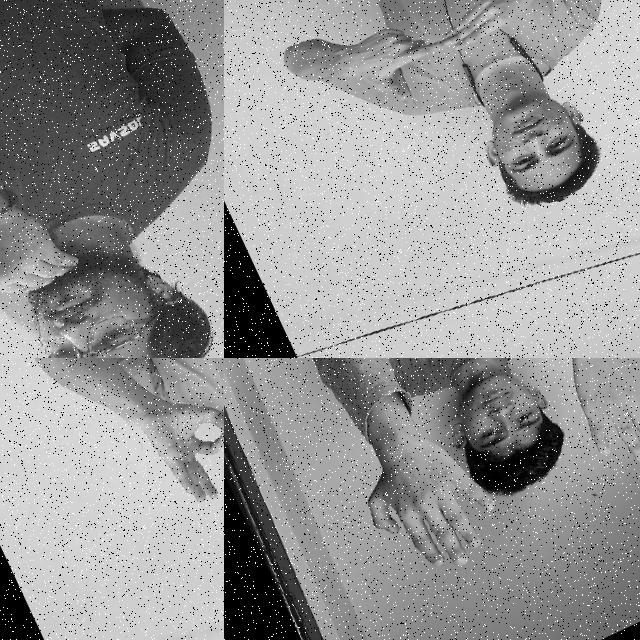Chin Flick: (0, 159, 210, 358)
Five Fathers: (335, 0, 571, 123)
Moutza: (332, 391, 522, 602), (528, 358, 640, 493)
Okay: (126, 366, 224, 525)
